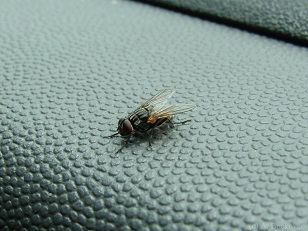fly: (112, 87, 191, 154)
